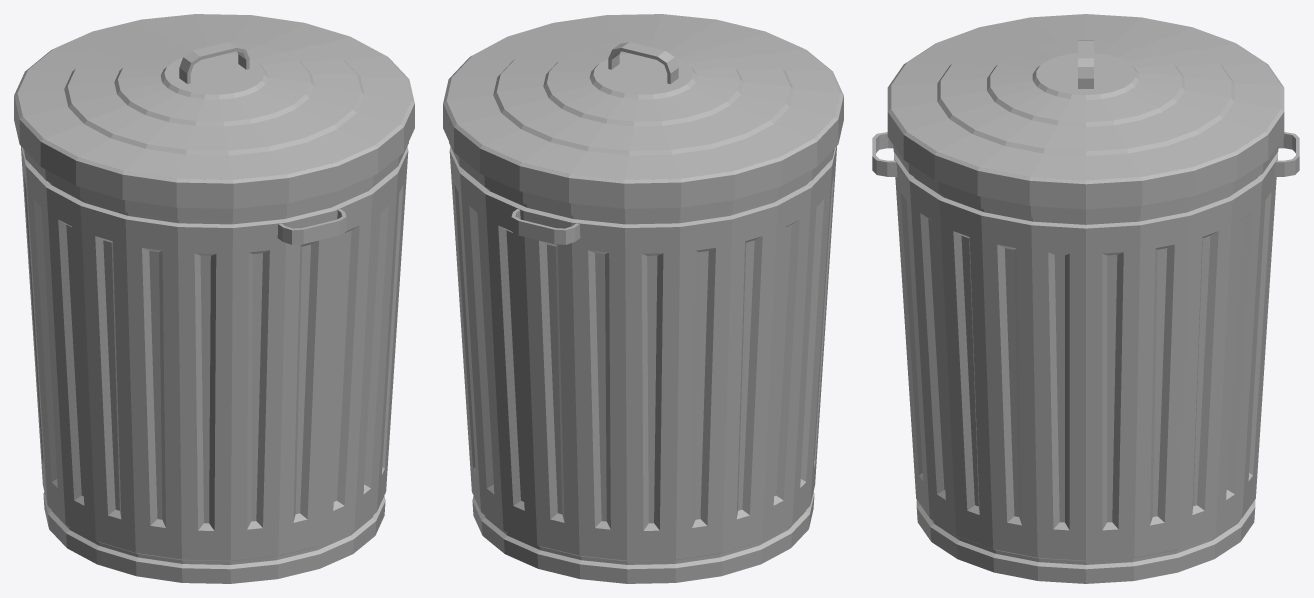
The model's file is 517 Garbage Bin.gltf.
The picture shows the model from 3 angles, left to right: view 1: azimuth 30°, elevation 25°; view 2: azimuth 150°, elevation 25°; view 3: azimuth 270°, elevation 25°; orthographic projection.
Visible parts, largest first — view 1: Garbage_Bin; view 2: Garbage_Bin; view 3: Garbage_Bin.
Boxes of the visible parts, left/top/right/bottom form: Garbage_Bin: left=14, top=14, right=414, bottom=583; Garbage_Bin: left=443, top=14, right=843, bottom=583; Garbage_Bin: left=872, top=14, right=1299, bottom=583.
Bounding box in the file's own units: 49.12 × 62.56 × 52.41.
Materials: 1 (1 with a texture image).
